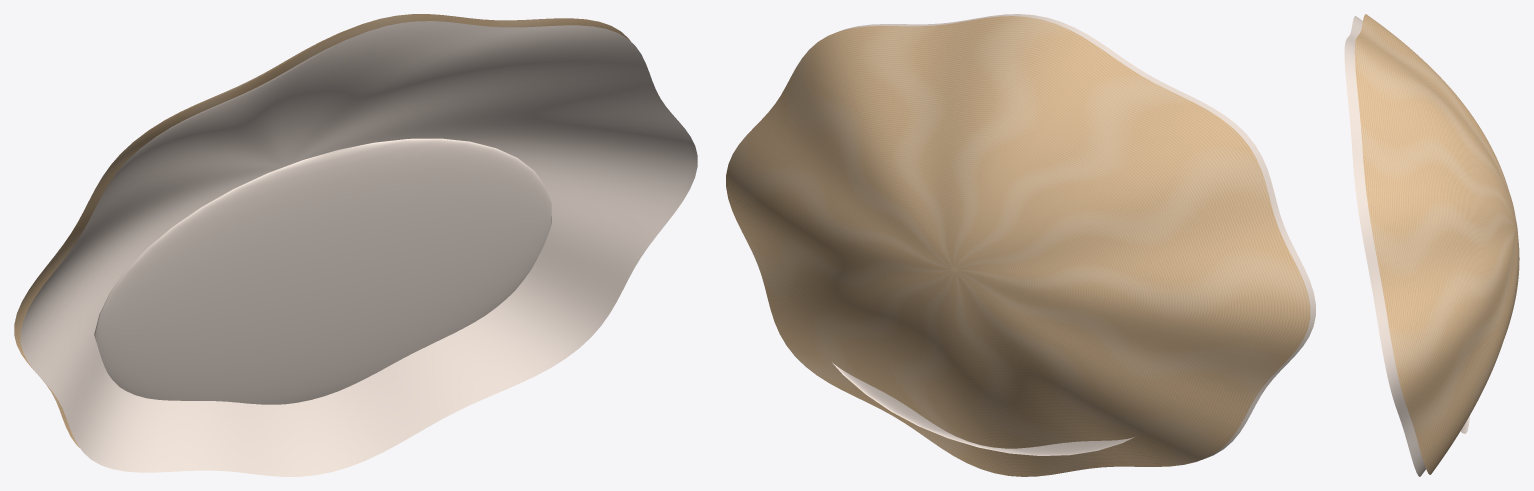
The model's file is slipper-shell.glb.
The picture shows the model from 3 angles, left to right: view 1: azimuth 30°, elevation 25°; view 2: azimuth 150°, elevation 25°; view 3: azimuth 270°, elevation 25°; orthographic projection. The views are drawn at different scales.
Parts seen in each view (by area): view 1: slipper-shell.001; view 2: slipper-shell.001; view 3: slipper-shell.001.
Part boxes in pixels (<box>): slipper-shell.001: <box>14,14,697,476</box>; slipper-shell.001: <box>726,14,1315,476</box>; slipper-shell.001: <box>1344,14,1519,476</box>.
Size of the model in its own units: 2.5 by 1.72 by 0.7047.
3 materials, 1 textured.
